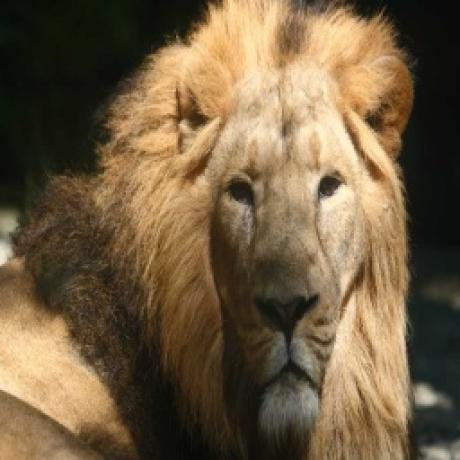Lion: (0, 0, 416, 460)
